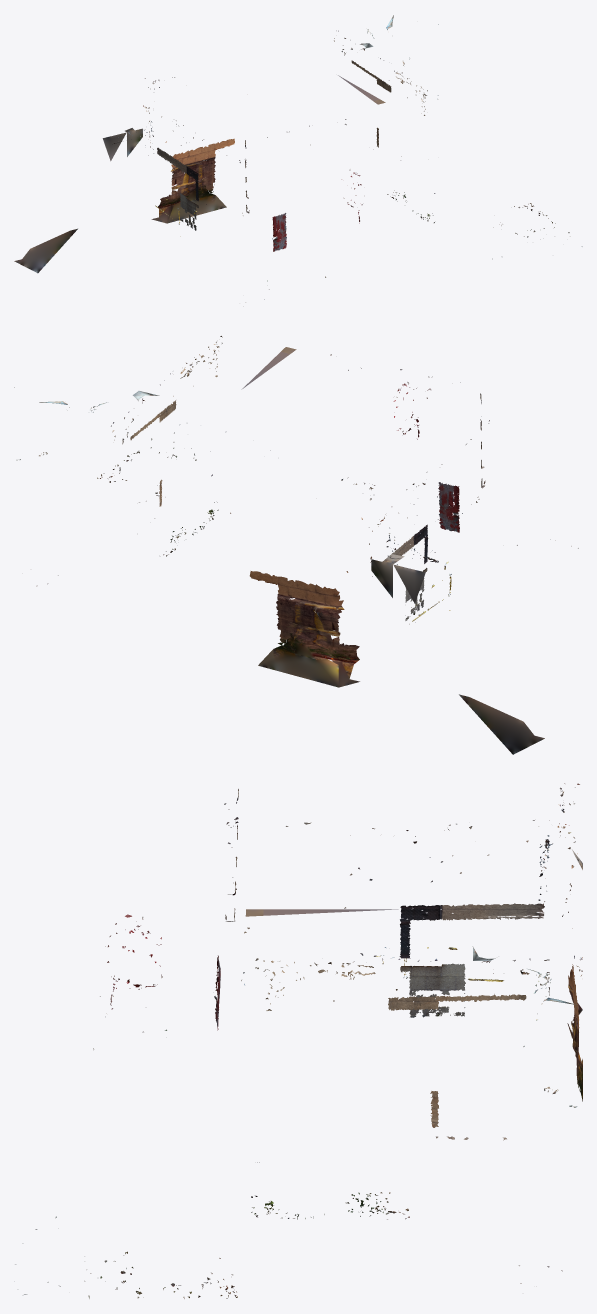
3 renders of one model, top to bottom at view 1: azimuth 30°, elevation 25°; view 2: azimuth 150°, elevation 25°; view 3: azimuth 270°, elevation 25°, orthographic. The views are drawn at different scales.
Size of the model in its own units: 9.92 by 3.88 by 6.14.
1 material, 1 textured.
